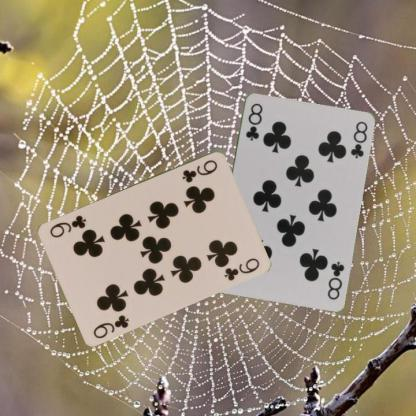8c: (324, 258, 346, 301), (242, 100, 263, 142)
9c: (90, 311, 130, 340), (179, 156, 219, 184)
